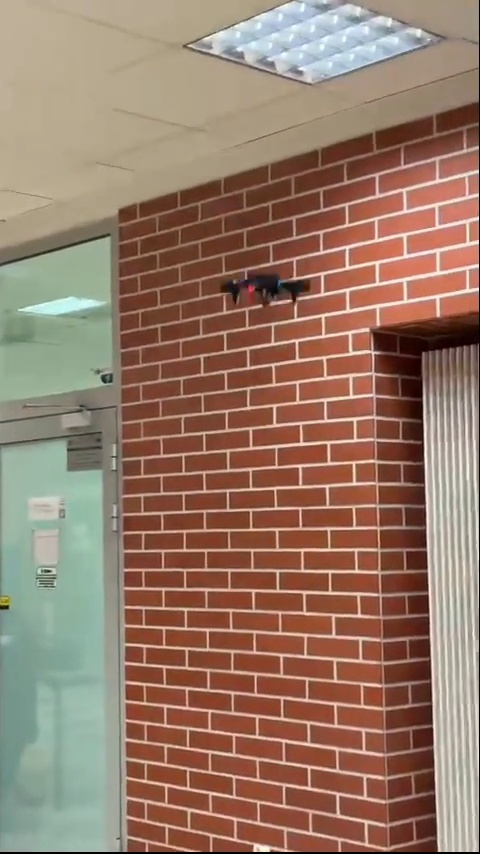drone: (221, 266, 304, 305)
